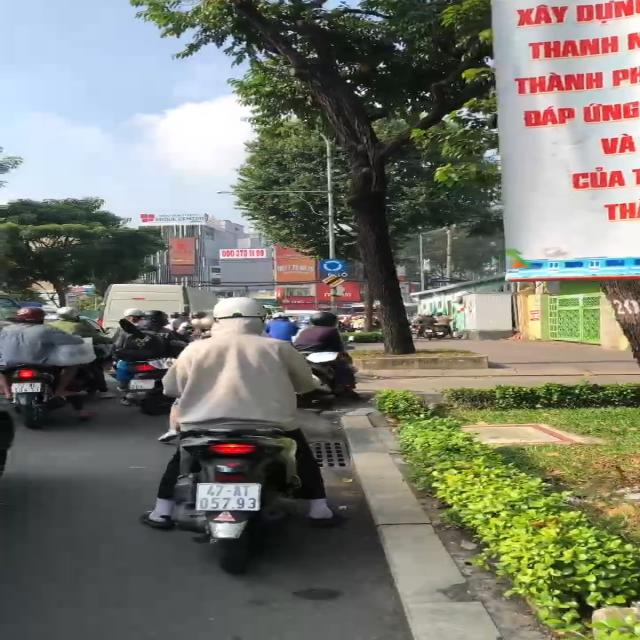Bien bao noi giao nhau chay theo vong xuyen: (316, 258, 349, 275)
